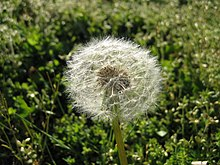dandelion white: (62, 34, 167, 124)
